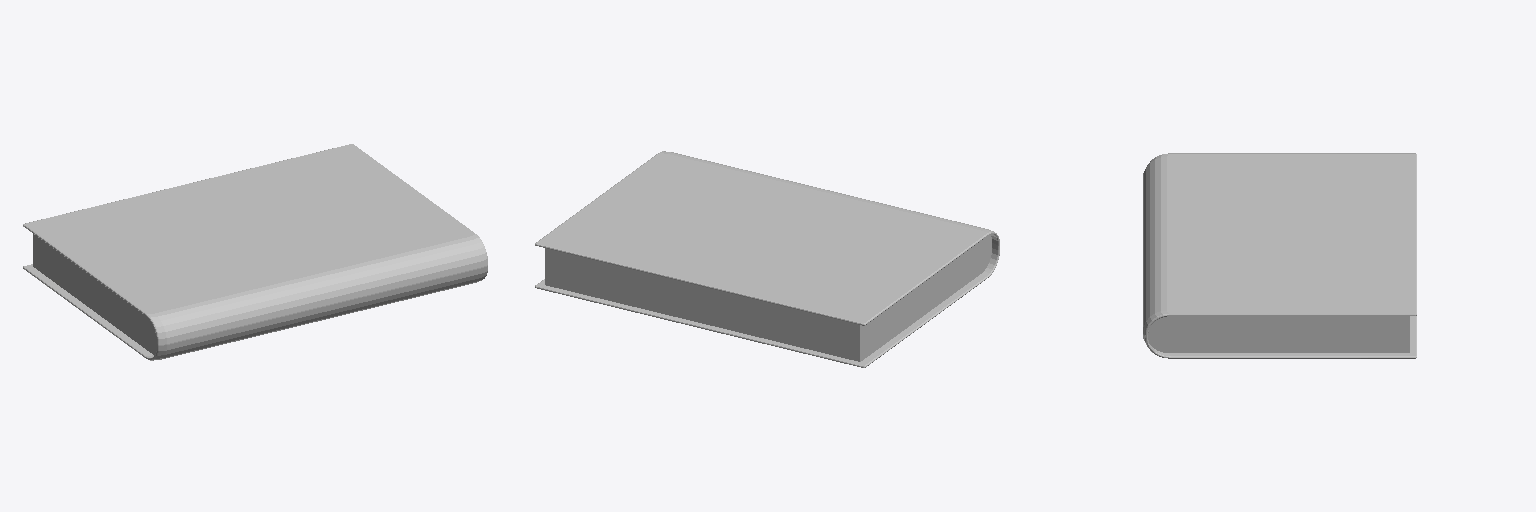
The model's file is livre.obj.
3 renders of one model, left to right at view 1: azimuth 30°, elevation 25°; view 2: azimuth 150°, elevation 25°; view 3: azimuth 270°, elevation 25°, orthographic.
Visible parts, largest first — view 1: Book_Cube; view 2: Book_Cube; view 3: Book_Cube.
Boxes of the visible parts, box(x1,y1,x2,y2) form: Book_Cube: box(23, 144, 487, 360); Book_Cube: box(535, 151, 999, 367); Book_Cube: box(1143, 153, 1416, 358).
Size of the model in its own units: 2.52 by 0.3252 by 1.81.